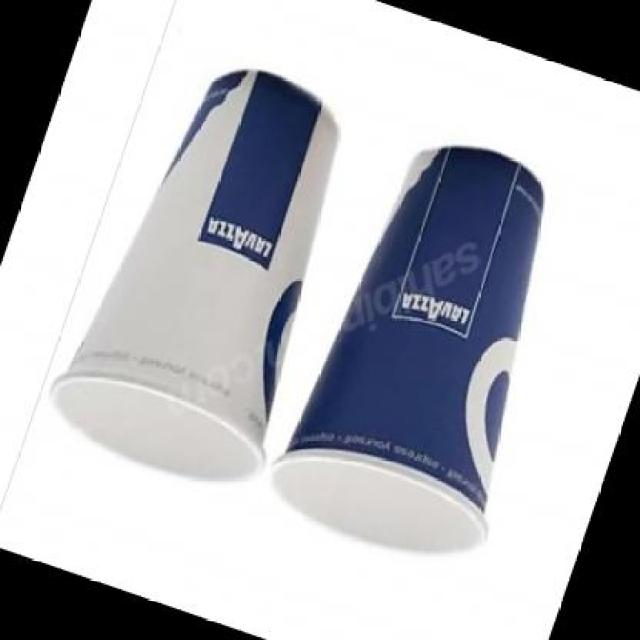non-biodegradable: (250, 95, 618, 597), (29, 10, 391, 512)
